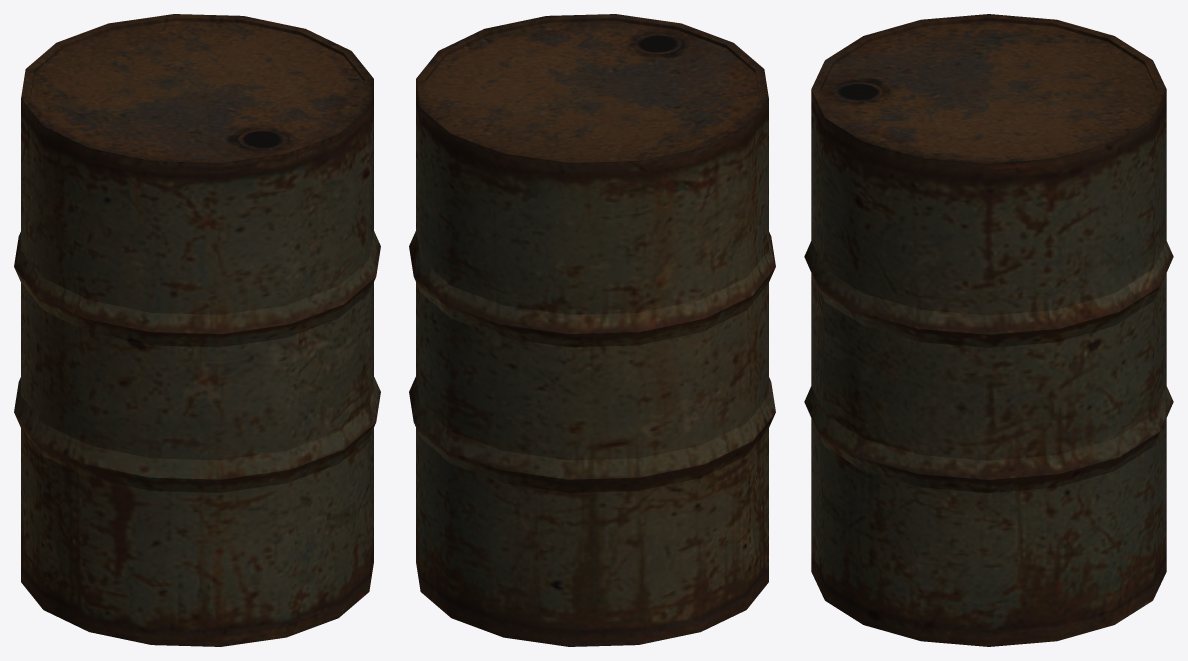
Rendered from metal_barrel_mp_2.fbx.
The picture shows the model from 3 angles, left to right: view 1: azimuth 30°, elevation 25°; view 2: azimuth 150°, elevation 25°; view 3: azimuth 270°, elevation 25°; orthographic projection.
Visible parts, largest first — view 1: metal_barrel_mp_2; view 2: metal_barrel_mp_2; view 3: metal_barrel_mp_2.
Boxes of the visible parts, <box> form: metal_barrel_mp_2: <box>14,14,380,646</box>; metal_barrel_mp_2: <box>409,14,775,646</box>; metal_barrel_mp_2: <box>804,14,1173,646</box>.
Bounding box in the file's own units: 0.7488 × 0.7488 × 1.08.
